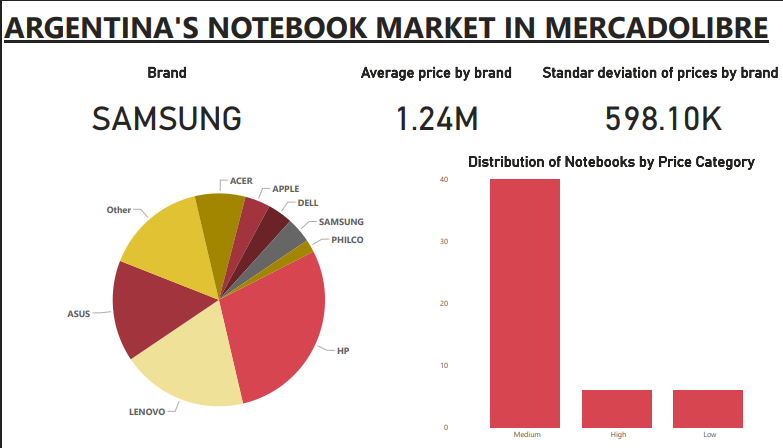

What the dashboard file says about the page in this screenshot:
{"tool":"powerbi","page":{"name":"Page 1","canvas":[1280,720],"ordinal":0},"visuals":[{"type":"pieChart","fields":{"Category":["output 3.Prod_brand"],"Y":["CountNonNull(output 3.Prod_brand)"]},"box":[0,243.8,710.5,477.2],"z":0},{"type":"columnChart","title":"Distribution of Notebooks by Price Category","fields":{"Category":["output 3.price_category"],"Y":["CountNonNull(output 3.Prod_price)"]},"box":[710.5,243.8,569.5,475.4],"z":1},{"type":"card","title":"Average price by brand","fields":{"Values":["Avg(output 3.Prod_price)"]},"box":[541.6,83.6,336.1,160.2],"z":2},{"type":"card","title":"Standar deviation of prices by brand","fields":{"Values":["Sum(output 3.Prod_price)"]},"box":[877.7,83.6,402.3,160.2],"z":3},{"type":"card","title":"Brand","fields":{"Values":["Min(output 3.Prod_brand)"]},"box":[0,83.6,541.6,160.2],"z":4},{"type":"textbox","box":[0,0,1280,83.6],"z":5}]}

Visuals, with their boxes in screenshot pixels (x1, y1, x2, y2), scaled from the page's 1280x720 canvas onto the 783x448 screenshot:
pieChart - output 3.Prod_brand x CountNonNull(output 3.Prod_brand): region(0, 152, 435, 447)
"Distribution of Notebooks by Price Category" columnChart: region(435, 152, 782, 447)
"Average price by brand" card: region(331, 52, 537, 152)
"Standar deviation of prices by brand" card: region(537, 52, 782, 152)
"Brand" card: region(0, 52, 331, 152)
textbox: region(0, 0, 782, 52)
